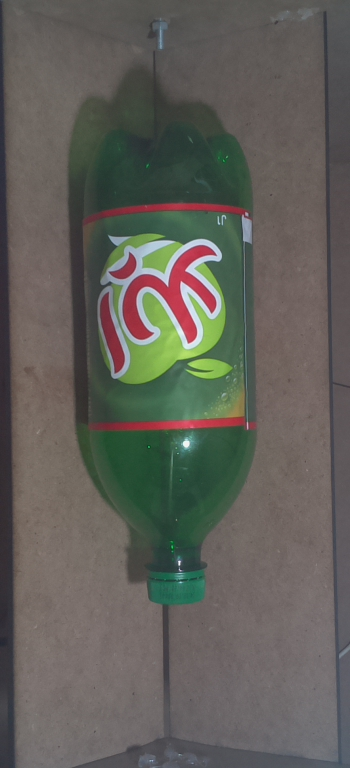Bouteille_1L: (65, 122, 264, 618)
